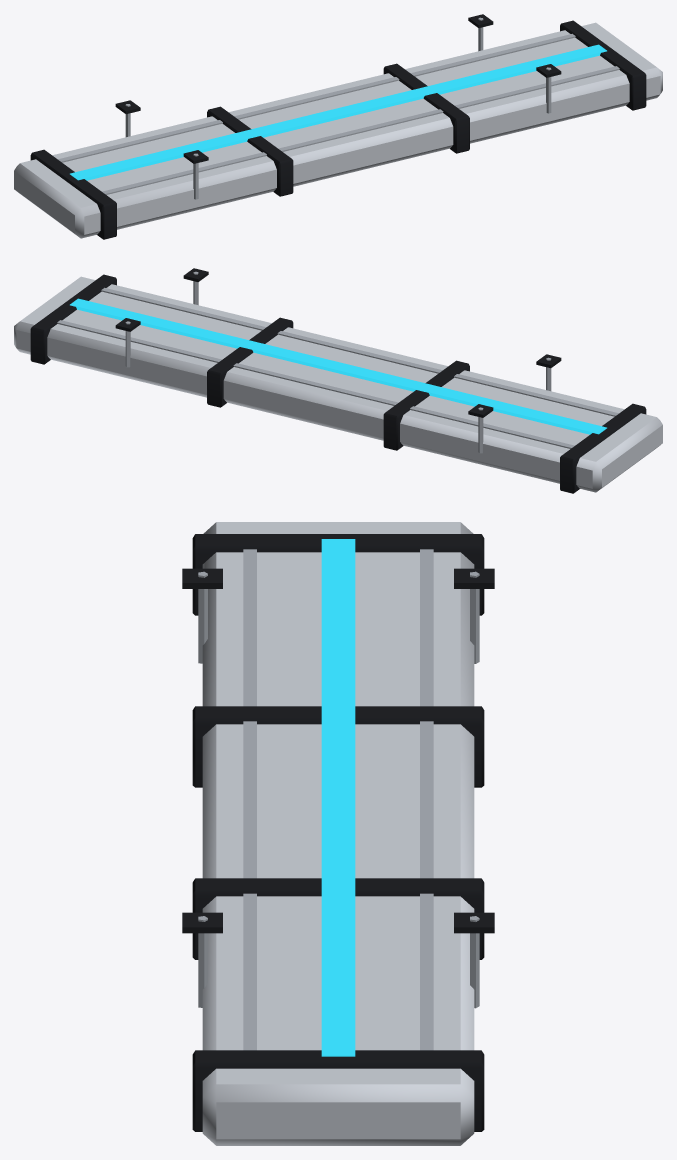
File: cabletray_covered_led_tray.glb
3 views of the same model, one above another, from view 1: azimuth 30°, elevation 25°; view 2: azimuth 150°, elevation 25°; view 3: azimuth 270°, elevation 25° (orthographic). The views are drawn at different scales.
Visible parts, largest first — view 1: cabletray_covered_led_tray; view 2: cabletray_covered_led_tray; view 3: cabletray_covered_led_tray.
Part boxes in pixels (x1,y1,x2,y2): cabletray_covered_led_tray: [14, 14, 662, 239]; cabletray_covered_led_tray: [14, 268, 662, 493]; cabletray_covered_led_tray: [182, 522, 494, 1145].
Bounding box in the file's own units: 2 × 0.198 × 0.46.
